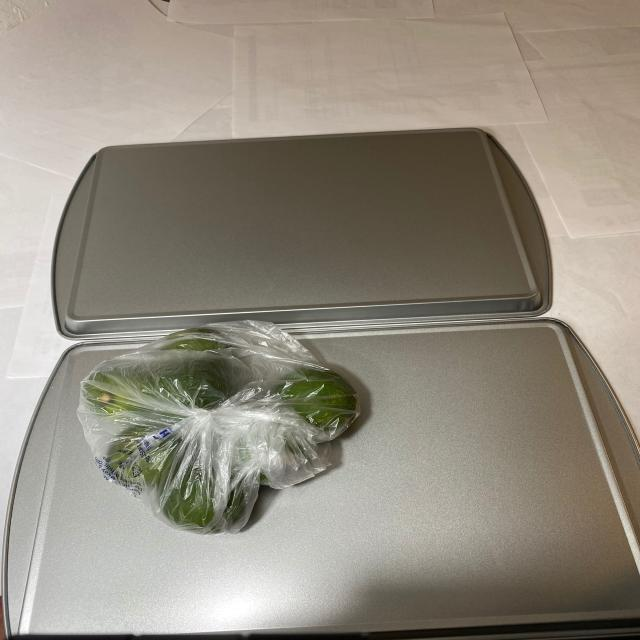lemon: (87, 332, 358, 532)
